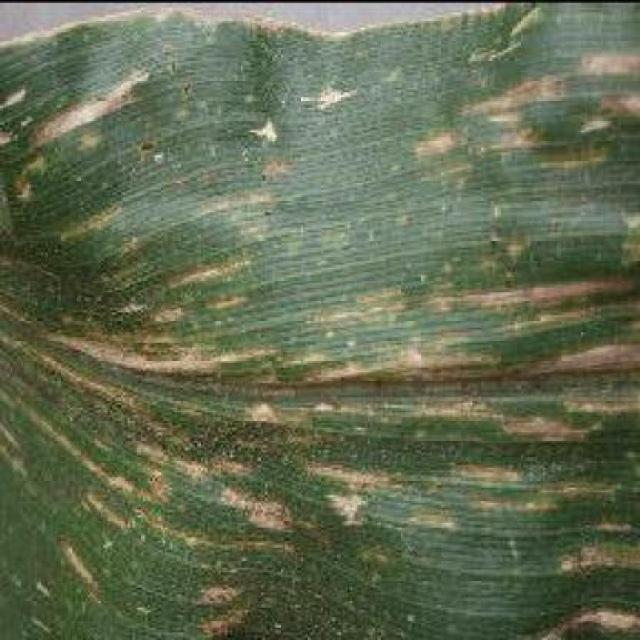Corn_Grey_Leaf_Spot: (26, 38, 640, 640)
